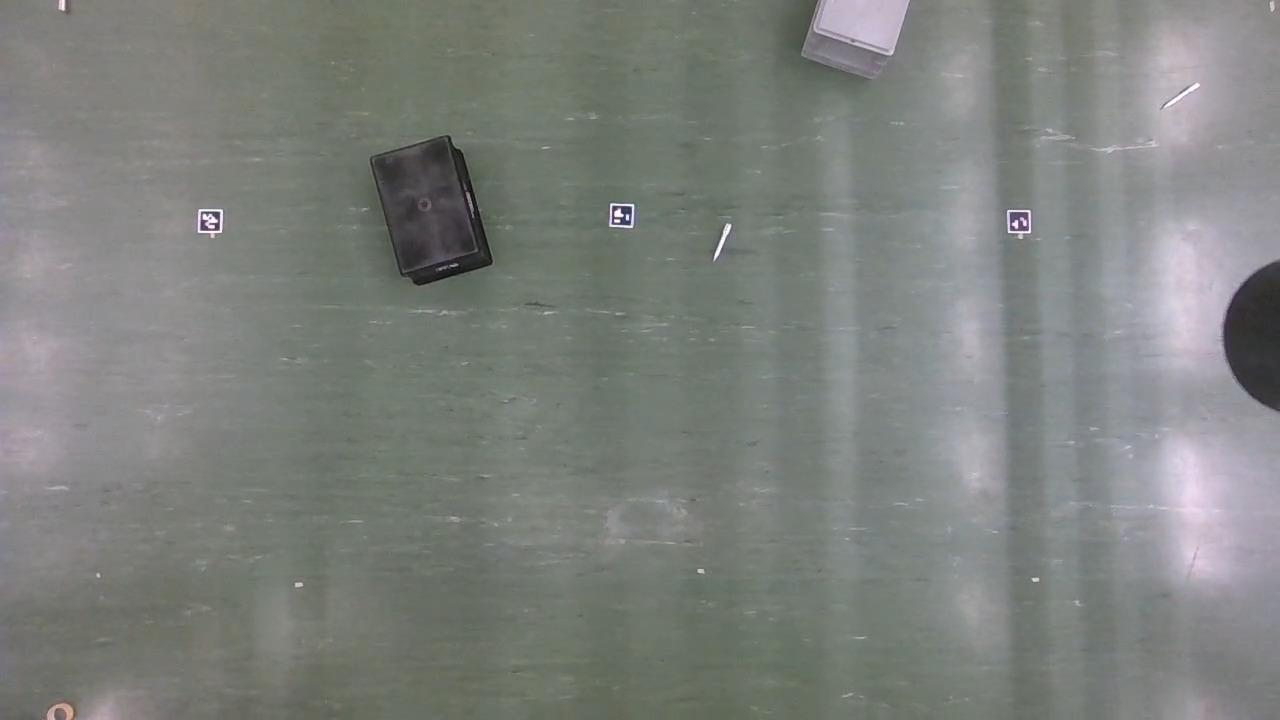probes: (1164, 84, 1197, 111), (714, 223, 731, 261)
rako: (370, 138, 494, 288), (800, 0, 911, 83)
